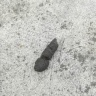Dog: (33, 38, 60, 73)
